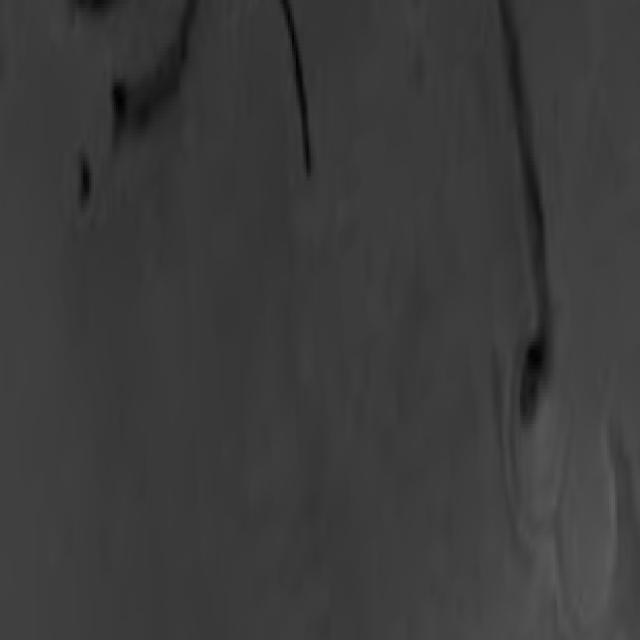larvas: (499, 0, 551, 420), (102, 7, 200, 156)
